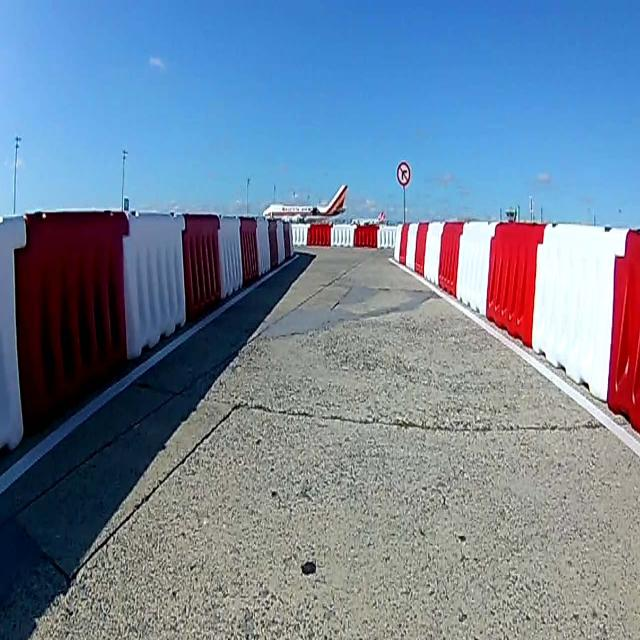sagadonulmez: (396, 161, 410, 187)
